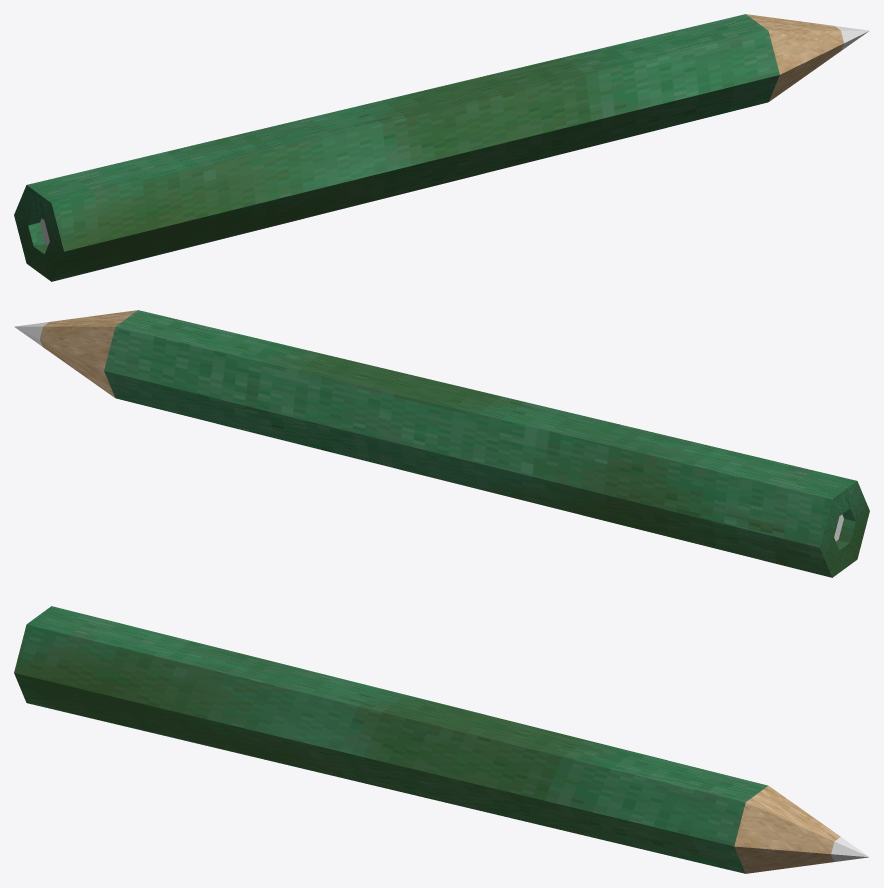
The model's file is Matita_2.fbx.
3 renders of one model, top to bottom at view 1: azimuth 30°, elevation 25°; view 2: azimuth 150°, elevation 25°; view 3: azimuth 330°, elevation 25°, orthographic.
Visible parts, largest first — view 1: Cylinder.003; view 2: Cylinder.003; view 3: Cylinder.003.
Boxes of the visible parts, box(x1,y1,x2,y2) form: Cylinder.003: box(14, 14, 869, 281); Cylinder.003: box(14, 310, 869, 577); Cylinder.003: box(14, 606, 869, 873).
Size of the model in its own units: 0.0355 by 0.00321 by 0.00371.
3 materials, 2 textured.
